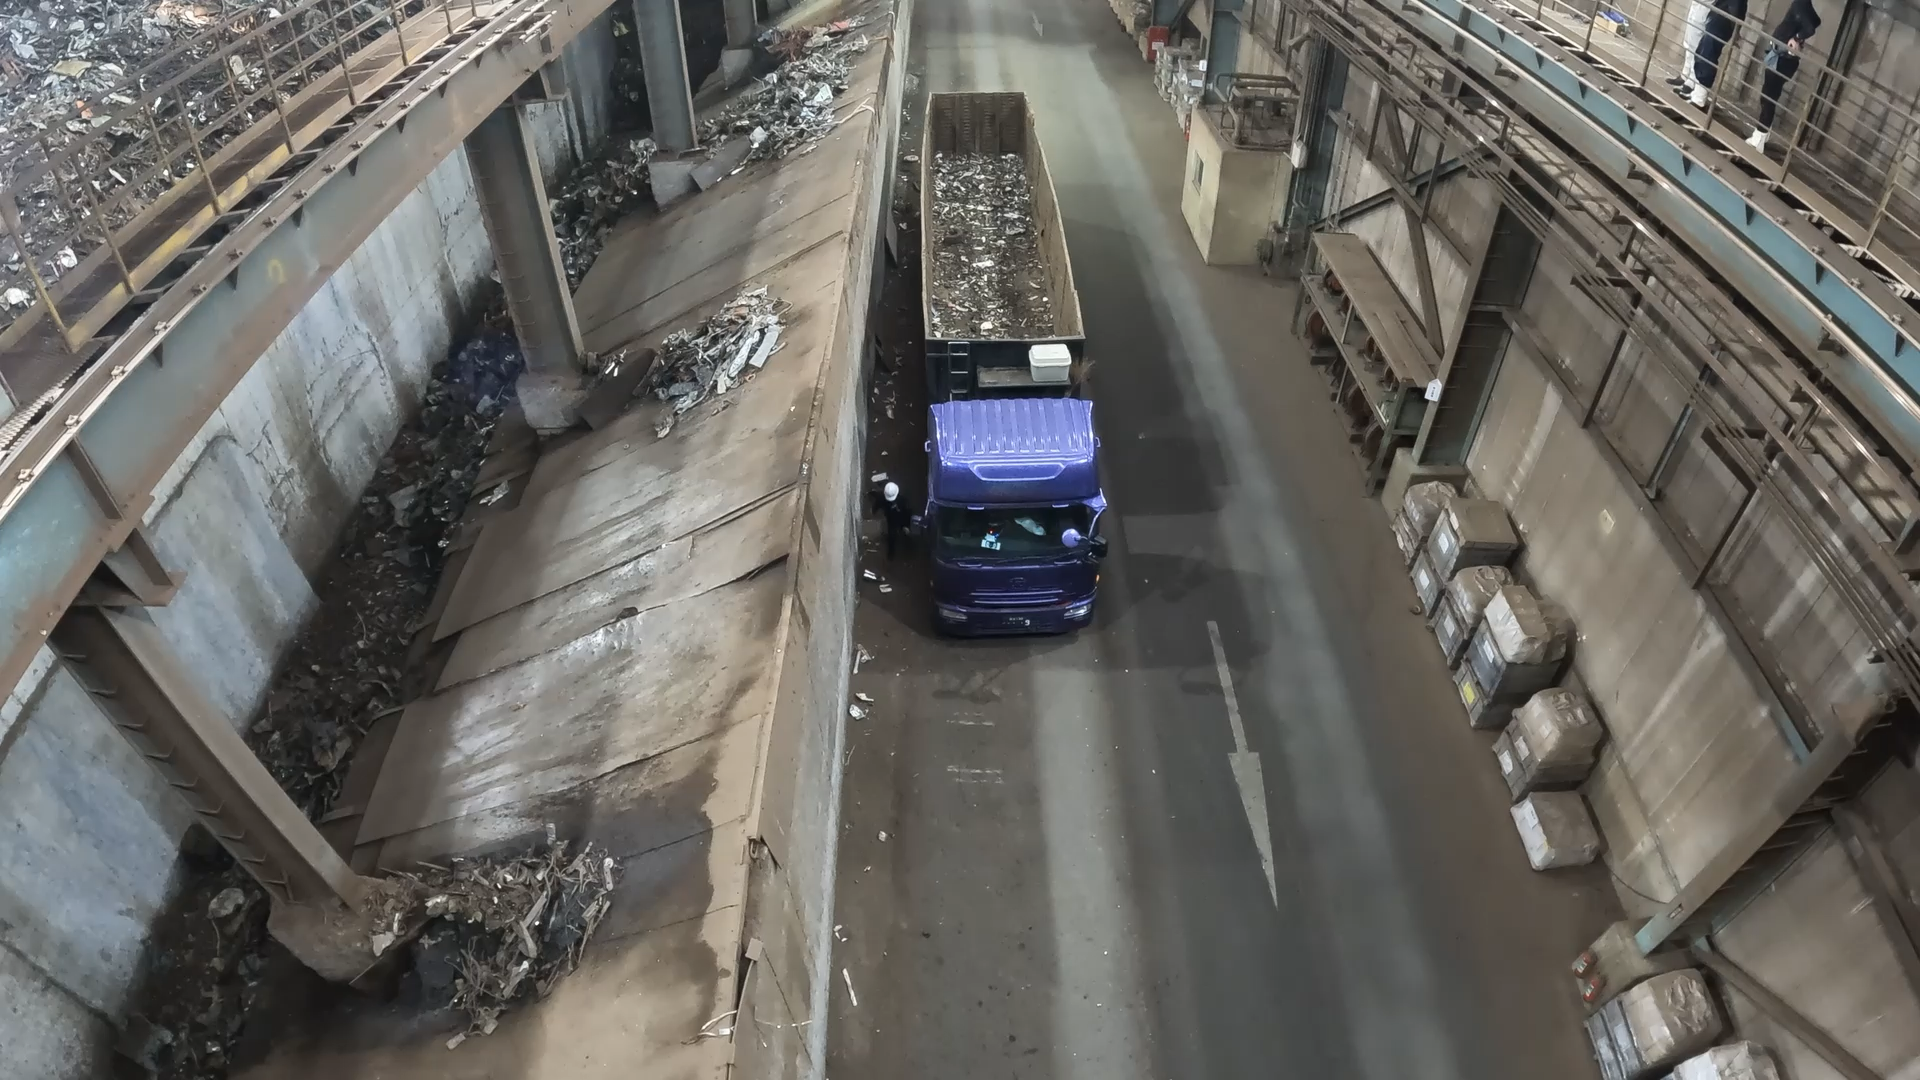truck: (923, 90, 1083, 340)
